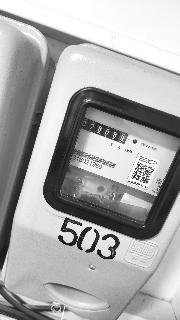1: (105, 129, 110, 135), (82, 121, 86, 127)
3: (90, 124, 95, 130)
9: (98, 126, 103, 132), (113, 132, 118, 138)
:: (120, 135, 125, 141)
